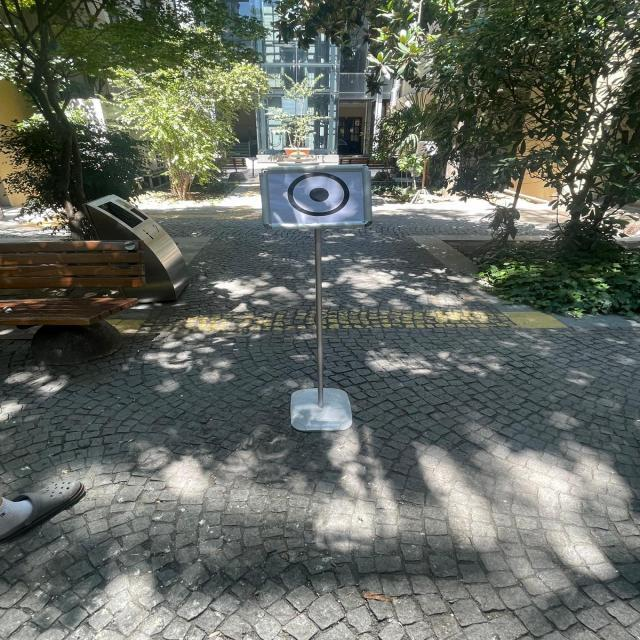Target: (246, 160, 392, 232)
inner: (305, 185, 337, 208)
